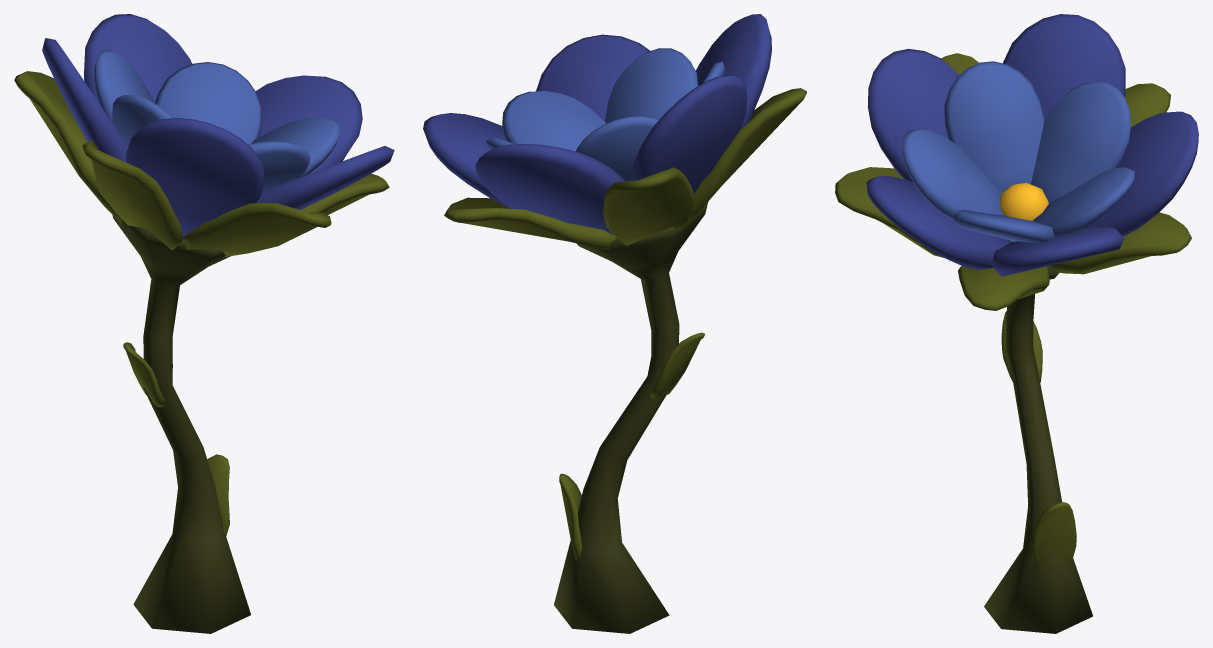
File: flor_magica.fbx
3 renders of one model, left to right at view 1: azimuth 30°, elevation 25°; view 2: azimuth 150°, elevation 25°; view 3: azimuth 270°, elevation 25°, orthographic. The views are drawn at different scales.
Parts seen in each view (by area): view 1: flor_magica; view 2: flor_magica; view 3: flor_magica.
Boxes of the visible parts, bbox=[...] form: flor_magica: bbox=[14, 14, 394, 633]; flor_magica: bbox=[423, 14, 806, 633]; flor_magica: bbox=[835, 14, 1198, 633].
Bounding box in the file's own units: 76.03 × 131 × 79.79.
